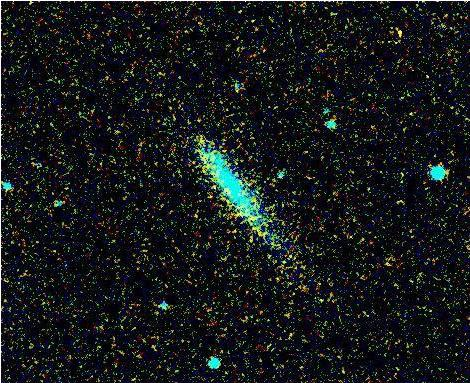star: (385, 14, 415, 44)
